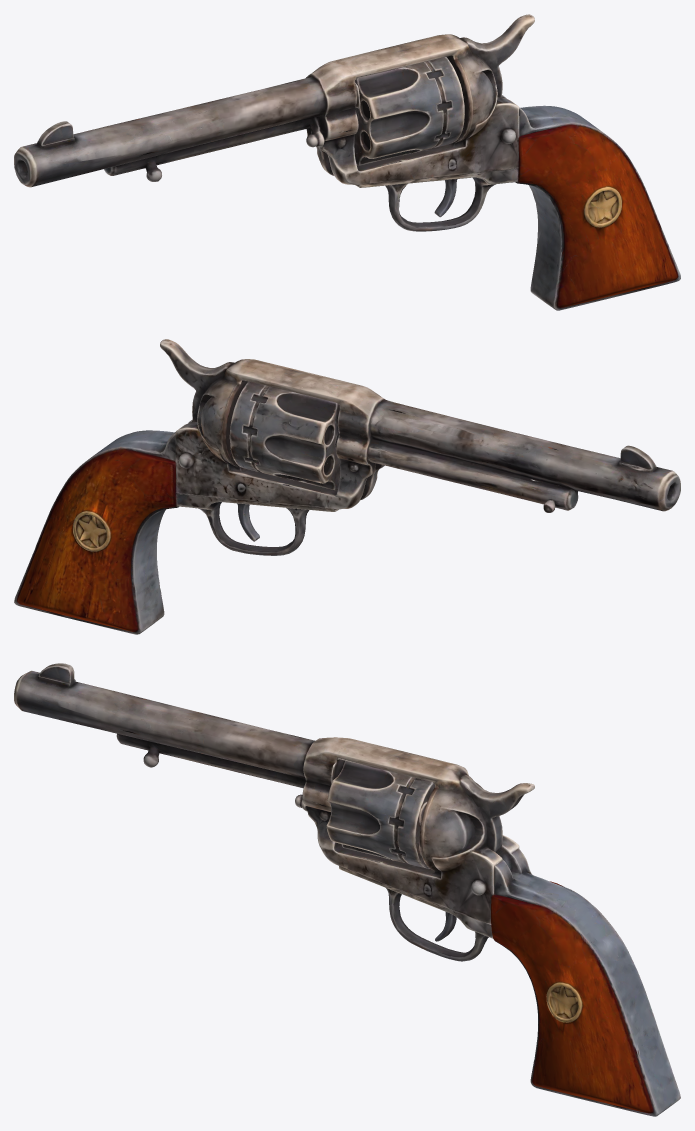
Rendered from a3D-revolver.glb.
3 renders of one model, top to bottom at view 1: azimuth 30°, elevation 25°; view 2: azimuth 150°, elevation 25°; view 3: azimuth 330°, elevation 25°, orthographic.
Parts seen in each view (by area): view 1: geometry_0; view 2: geometry_0; view 3: geometry_0.
Boxes of the visible parts, left/top/right/bottom form: geometry_0: left=14, top=14, right=680, bottom=310; geometry_0: left=14, top=339, right=680, bottom=634; geometry_0: left=14, top=663, right=680, bottom=1116.
Bounding box in the file's own units: 1.91 × 0.8352 × 0.2586.
1 material, 1 textured.
